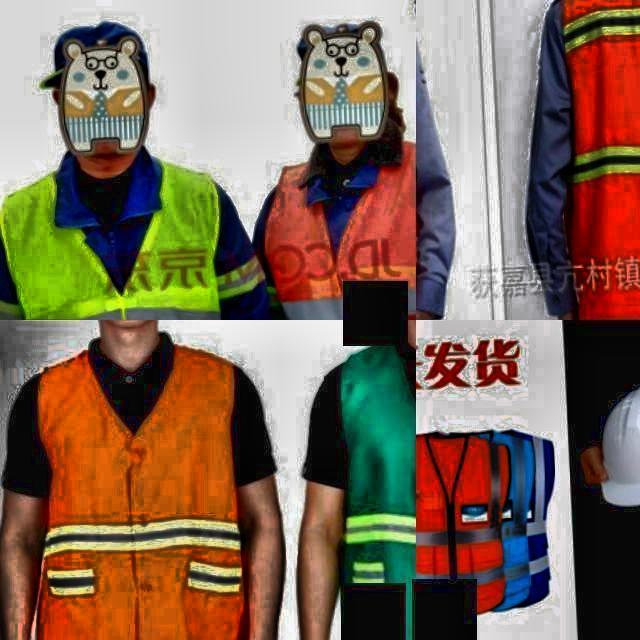safety_jacket: (32, 357, 245, 640), (3, 185, 232, 320), (557, 0, 640, 320), (264, 150, 416, 320), (336, 343, 416, 640), (416, 441, 507, 616)
